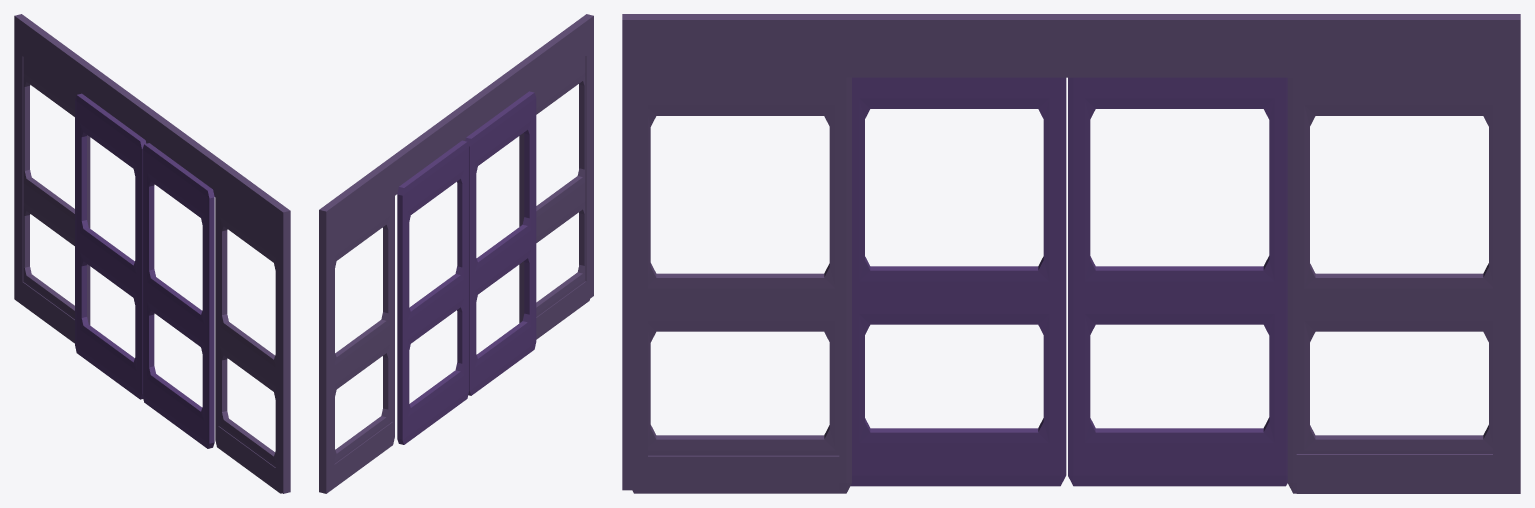
Rendered from store_door.fbx.
3 views of the same model, side by side, from view 1: azimuth 30°, elevation 25°; view 2: azimuth 150°, elevation 25°; view 3: azimuth 270°, elevation 25° (orthographic). The views are drawn at different scales.
Visible parts, largest first — view 1: door_frame, door_left, door_right, door_glass_left, door_glass_right; view 2: door_frame, door_right, door_left, door_glass_right, door_glass_left; view 3: door_frame, door_right, door_left, door_glass_left, door_glass_right.
Part boxes in pixels (x1,y1,x2,y2): door_frame: (14,14,290,493); door_left: (142,143,214,448); door_right: (75,93,146,399); door_glass_left: (215,197,281,493); door_glass_right: (23,57,90,325); door_frame: (319,14,593,493); door_right: (397,140,468,444); door_left: (465,91,536,395); door_glass_right: (334,196,394,463); door_glass_left: (519,56,589,339); door_frame: (622,14,1520,493); door_right: (1068,77,1287,486); door_left: (850,77,1066,486); door_glass_left: (632,77,851,493); door_glass_right: (1287,77,1492,493).
Bounding box in the file's own units: 17.66 × 311 × 533.
